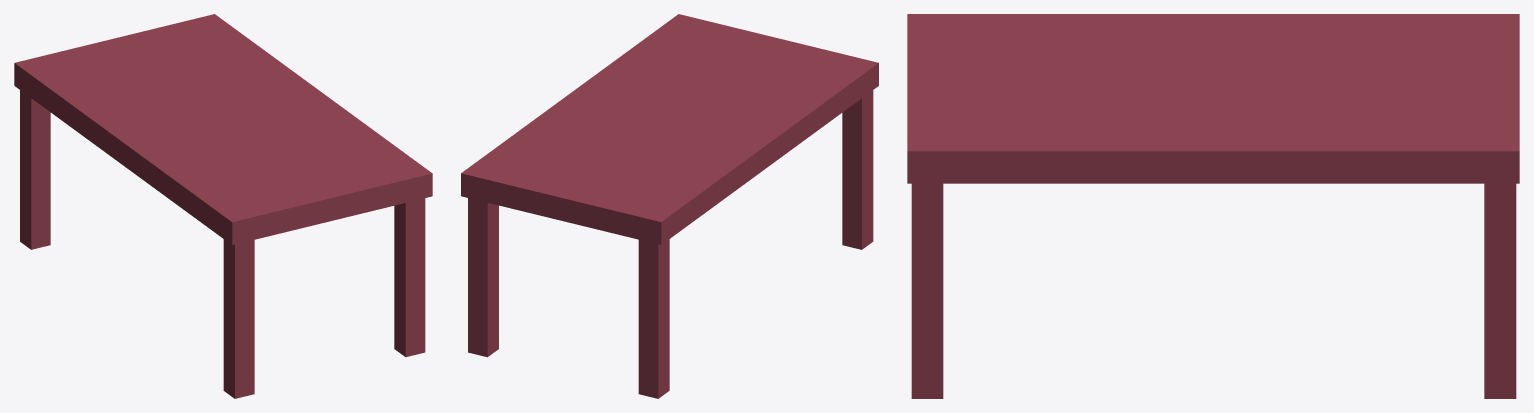
File: Table.fbx
3 views of the same model, side by side, from view 1: azimuth 30°, elevation 25°; view 2: azimuth 150°, elevation 25°; view 3: azimuth 270°, elevation 25° (orthographic). The views are drawn at different scales.
Visible parts, largest first — view 1: Cube.000; view 2: Cube.000; view 3: Cube.000.
Part boxes in pixels (bbox=[...]): Cube.000: bbox=[14, 14, 432, 398]; Cube.000: bbox=[461, 14, 878, 398]; Cube.000: bbox=[907, 14, 1519, 398].
Size of the model in its own units: 174 by 148 by 327.
